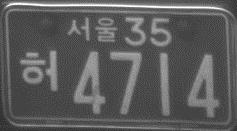1: (155, 50, 175, 118)
3: (123, 16, 146, 46)
4: (185, 51, 221, 120), (72, 51, 108, 114)
5: (148, 17, 171, 47)
7: (108, 50, 144, 116)
서울_O: (66, 17, 119, 44)
허: (18, 49, 60, 93)
